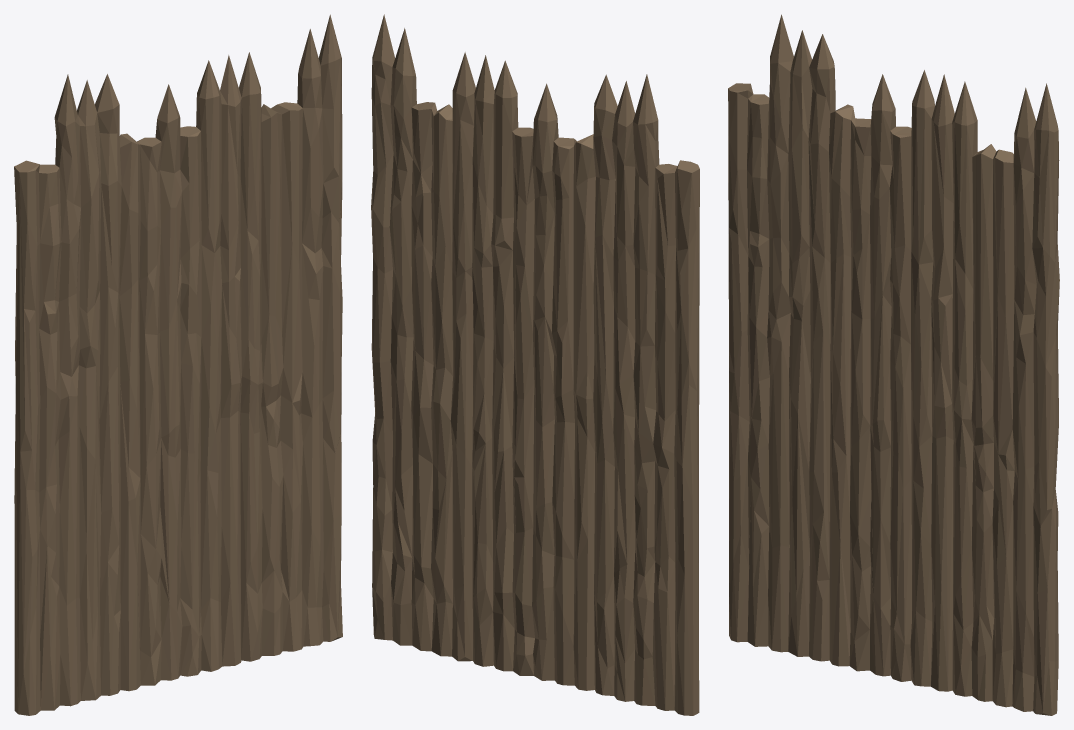
Rendered from siege_wall_a.FBX.
3 renders of one model, left to right at view 1: azimuth 30°, elevation 25°; view 2: azimuth 150°, elevation 25°; view 3: azimuth 330°, elevation 25°, orthographic.
Visible parts, largest first — view 1: siege_wall_a; view 2: siege_wall_a; view 3: siege_wall_a.
Boxes of the visible parts, bbox=[...] form: siege_wall_a: bbox=[14, 14, 342, 715]; siege_wall_a: bbox=[371, 14, 699, 715]; siege_wall_a: bbox=[728, 14, 1059, 715].
Bounding box in the file's own units: 2 × 3.69 × 0.1586.
